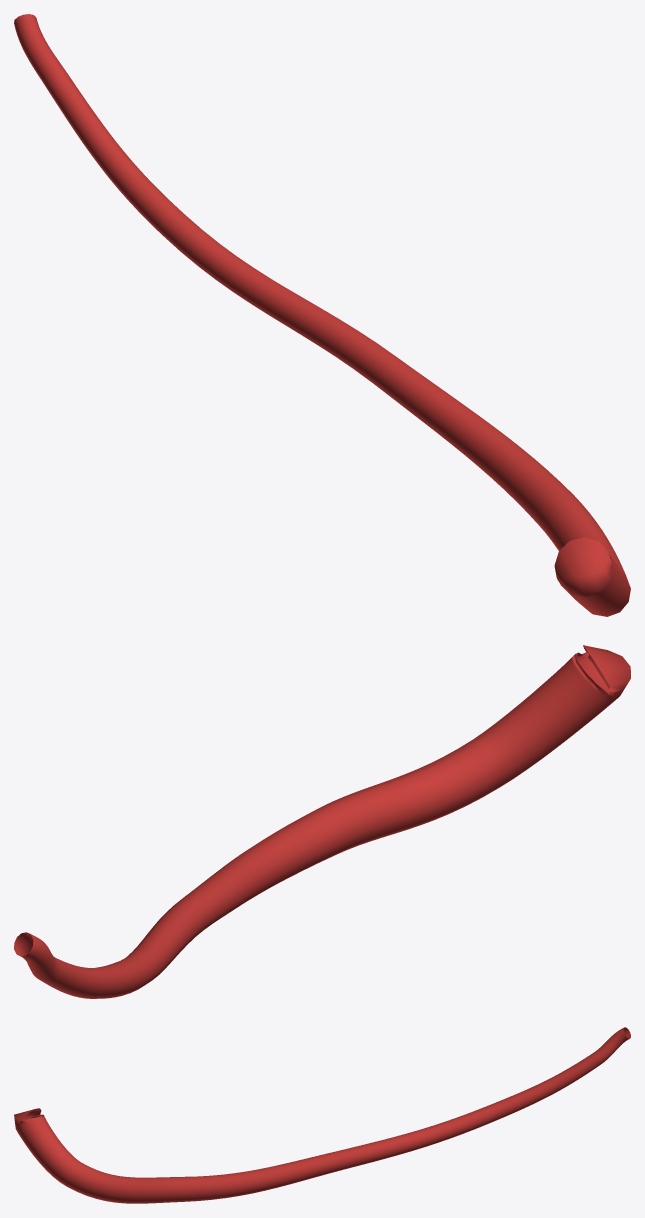
3 renders of one model, top to bottom at view 1: azimuth 30°, elevation 25°; view 2: azimuth 150°, elevation 25°; view 3: azimuth 270°, elevation 25°, orthographic. The views are drawn at different scales.
Visible parts, largest first — view 1: 肠系膜下动脉; view 2: 肠系膜下动脉; view 3: 肠系膜下动脉.
Boxes of the visible parts, x1=… form: 肠系膜下动脉: x1=14, y1=14, x2=630, y2=616; 肠系膜下动脉: x1=14, y1=645, x2=630, y2=998; 肠系膜下动脉: x1=14, y1=1027, x2=630, y2=1203.
Size of the model in its own units: 0.0211 by 0.0334 by 0.1288.
